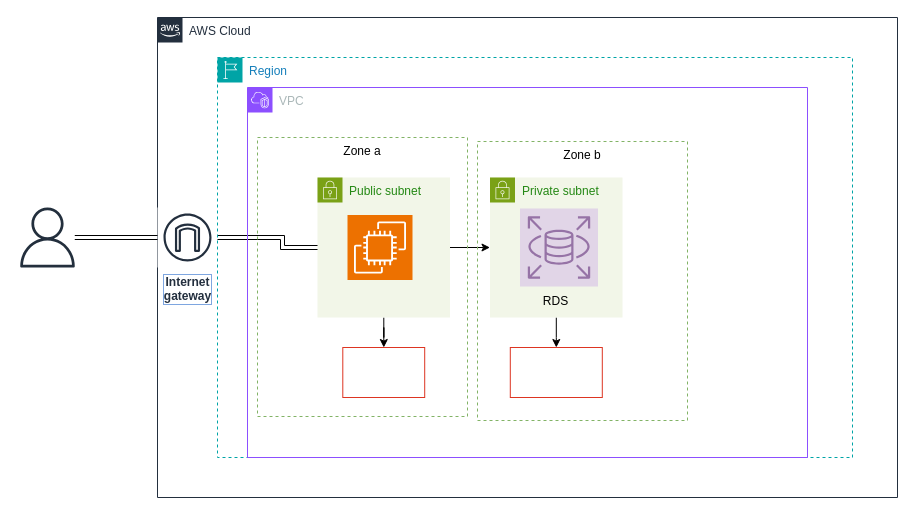
Some shapes in this 915 by 515 pixel diagram are drawn without their labels. The centre of each missing label's shape, as x and y in pixels:
"Client" goes at point 47,237.
"EC2" goes at point 379,247.
"Security group EC2" goes at point 383,372.
"Security group RDS" goes at point 555,372.
